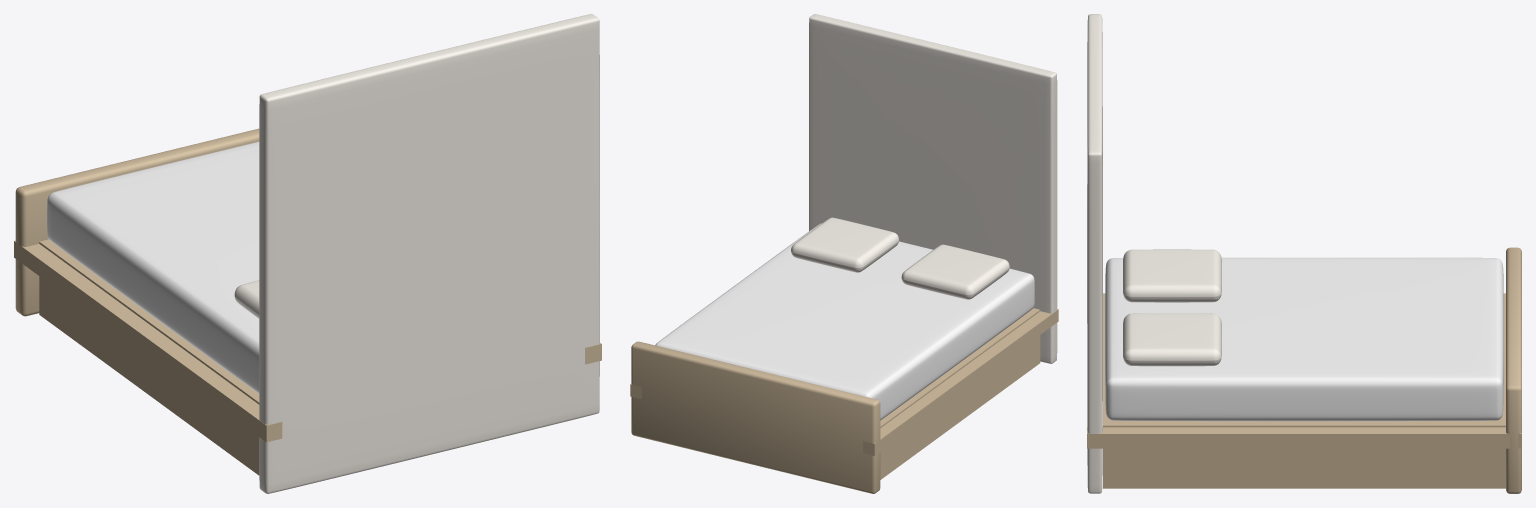
3 renders of one model, left to right at view 1: azimuth 30°, elevation 25°; view 2: azimuth 150°, elevation 25°; view 3: azimuth 270°, elevation 25°, orthographic. The views are drawn at different scales.
Parts seen in each view (by area): view 1: Headboard, Mattress, BedFrame, Footboard, Pillow; view 2: Headboard, Mattress, Footboard, BedFrame, Pillow, Pillow.001; view 3: Mattress, BedFrame, Headboard, Pillow, Pillow.001, Footboard.
Boxes of the visible parts, x1,y1,x2,y2 form: Headboard: (259,14,599,493); Mattress: (47,141,259,393); BedFrame: (14,239,601,475); Footboard: (15,128,259,316); Pillow: (234,280,259,318); Headboard: (809,14,1057,363); Mattress: (655,223,1034,420); Footboard: (631,341,880,493); BedFrame: (630,308,1058,479); Pillow: (901,244,1009,299); Pillow.001: (791,217,899,272); Mattress: (1105,257,1503,421); BedFrame: (1087,293,1521,488); Headboard: (1087,14,1102,493); Pillow: (1123,249,1221,302); Pillow.001: (1123,313,1221,366); Footboard: (1506,247,1521,493).
Bounding box in the file's own units: 1.68 × 1.9 × 2.19.
